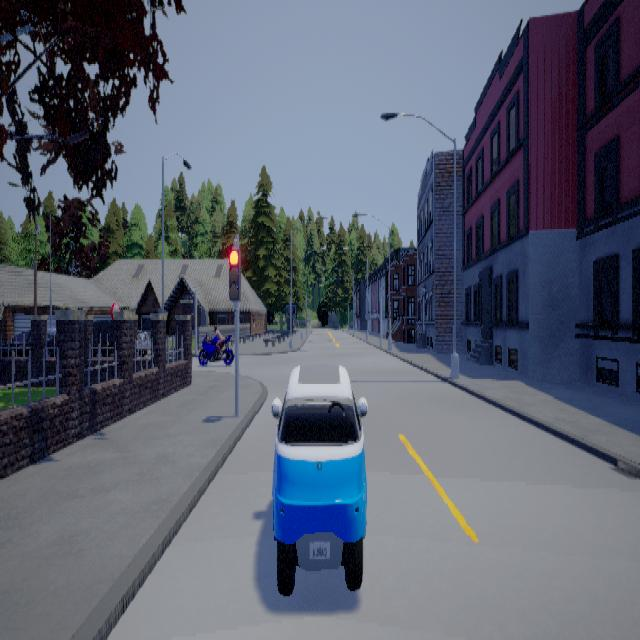motobike: (199, 332, 235, 364)
red_light: (230, 237, 242, 310)
vehicle: (272, 362, 369, 595)
